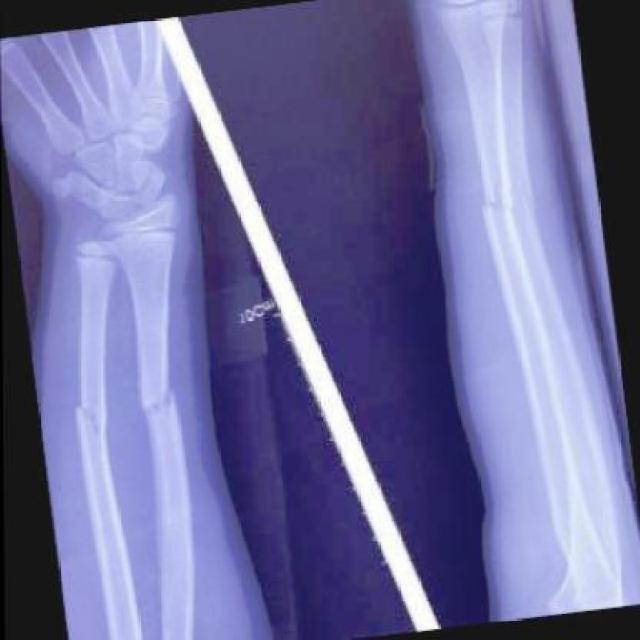Fracture: (68, 391, 124, 440), (131, 383, 187, 423), (507, 189, 547, 229), (480, 186, 522, 222)
